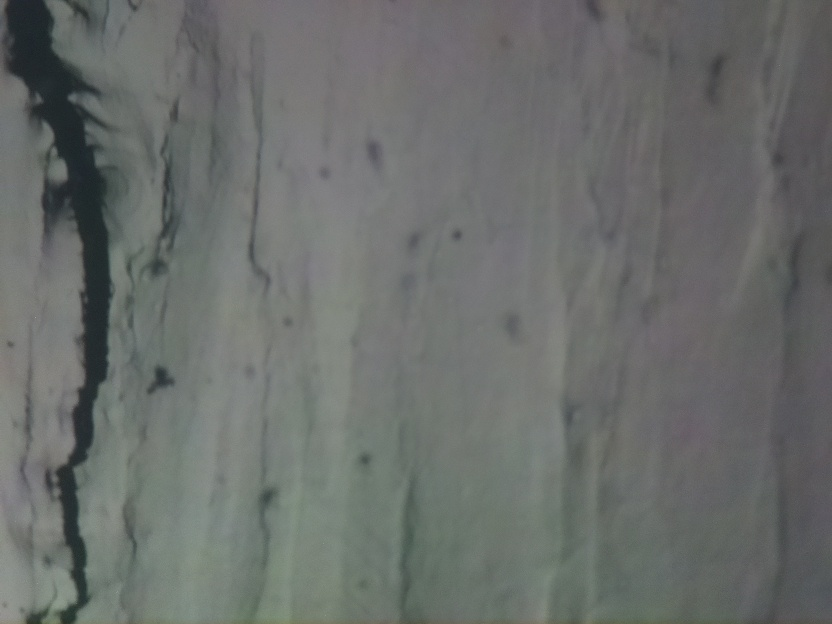crack: (4, 0, 109, 623)
